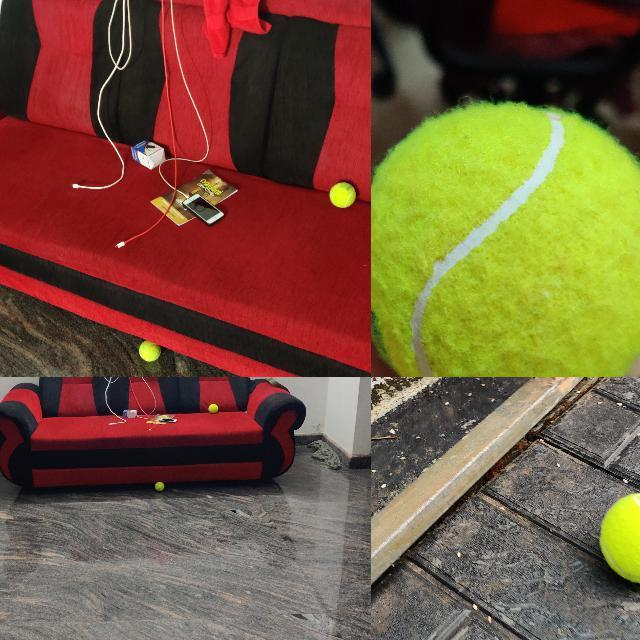tennis-ball: (371, 105, 639, 376), (599, 491, 639, 583), (329, 182, 356, 208), (138, 347, 160, 362), (154, 481, 164, 491), (208, 404, 218, 413)
